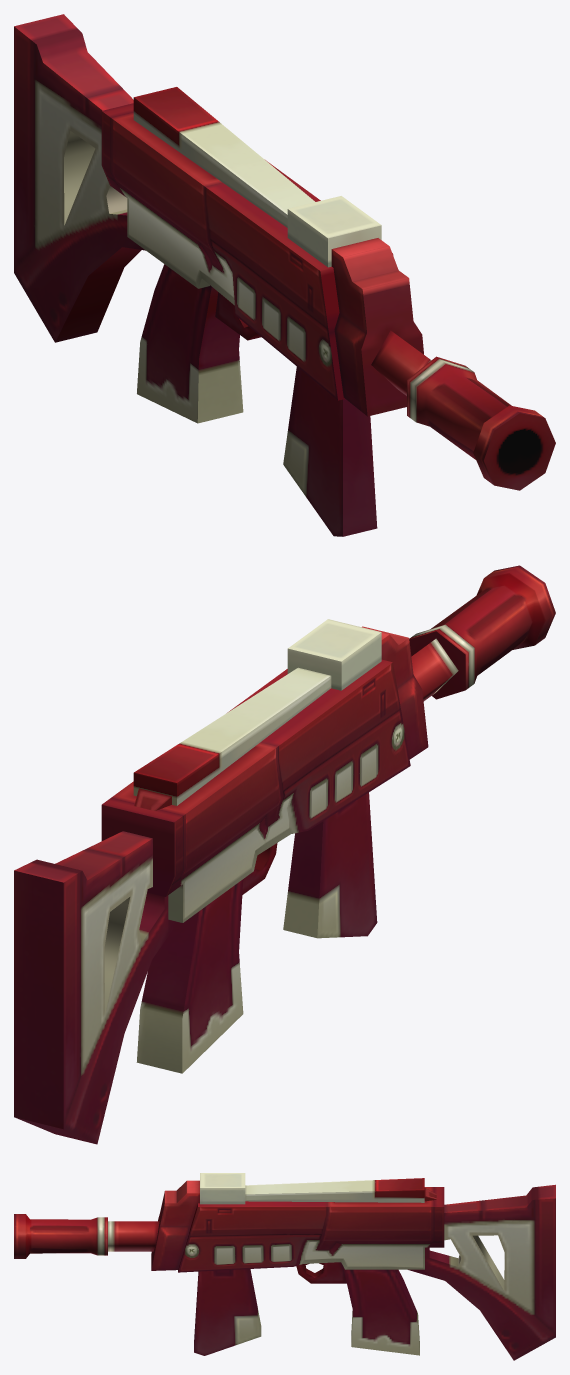
The model's file is Ty_buff_gun_m.FBX.
3 views of the same model, one above another, from view 1: azimuth 30°, elevation 25°; view 2: azimuth 150°, elevation 25°; view 3: azimuth 270°, elevation 25° (orthographic). The views are drawn at different scales.
Parts seen in each view (by area): view 1: Ty_buff_gun_m; view 2: Ty_buff_gun_m; view 3: Ty_buff_gun_m.
Boxes of the visible parts, <box> form: Ty_buff_gun_m: <box>14,14,555,536</box>; Ty_buff_gun_m: <box>14,565,555,1144</box>; Ty_buff_gun_m: <box>14,1173,555,1360</box>.
Bounding box in the file's own units: 4.69 × 19.1 × 53.75.
